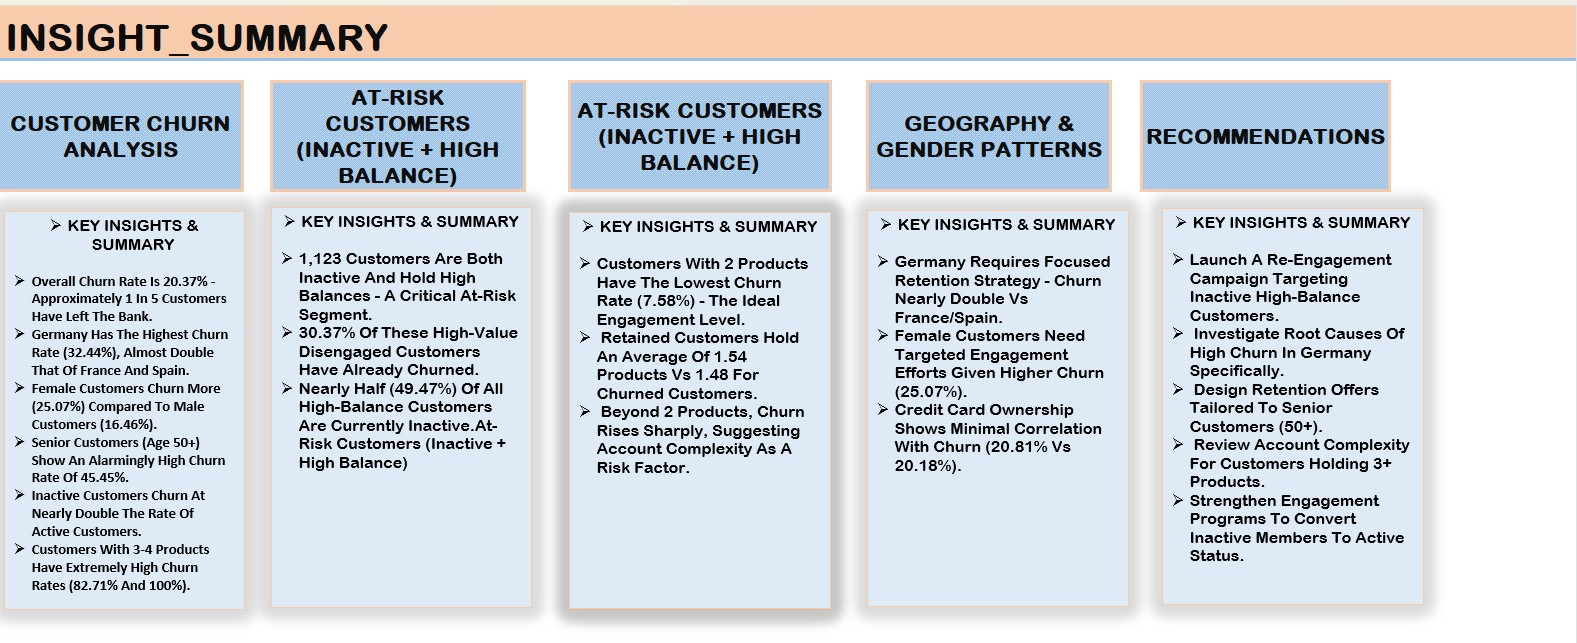

The dashboard page shown, as its layout file describes it:
{"tool":"powerbi","page":{"name":"Key Insights","canvas":[1280,720],"ordinal":5},"visuals":[{"type":"textbox","title":"ACTIVE VS INACTIVE","box":[9.4,70.1,354.4,138.8],"z":0},{"type":"textbox","title":"PRODUCT COUNT","box":[421.5,69.5,354.4,138.8],"z":1000},{"type":"textbox","title":"GEOGRAPHY","box":[816.5,57.9,354.4,138.8],"z":2000},{"type":"textbox","title":"HIGH BALANCE + INACTIVE (SILENT CHURN)","box":[404.2,503.9,371.9,184.6],"z":3000},{"type":"textbox","title":"CREDIT CARD","box":[807.1,266.8,354.4,138.8],"z":4000},{"type":"textbox","title":"AGE GROUP","box":[404.2,250.6,354.4,200.8],"z":5000},{"type":"textbox","title":"SINGLE PRODUCT","box":[0,281.4,354.4,138.8],"z":6000},{"type":"textbox","box":[9.1,9.1,1271.4,49],"z":6002}]}

Visuals, with their boxes on the page's 1280x720 design canvas (x1, y1, x2, y2). These are canvas units, not pixel positions in the 1577x643 screenshot, which may show the page scaled, cropped or inside an application window:
"ACTIVE VS INACTIVE" textbox: left=9, top=70, right=364, bottom=209
"PRODUCT COUNT" textbox: left=422, top=70, right=776, bottom=208
"GEOGRAPHY" textbox: left=816, top=58, right=1171, bottom=197
"HIGH BALANCE + INACTIVE (SILENT CHURN)" textbox: left=404, top=504, right=776, bottom=688
"CREDIT CARD" textbox: left=807, top=267, right=1162, bottom=406
"AGE GROUP" textbox: left=404, top=251, right=759, bottom=451
"SINGLE PRODUCT" textbox: left=0, top=281, right=354, bottom=420
textbox: left=9, top=9, right=1280, bottom=58
